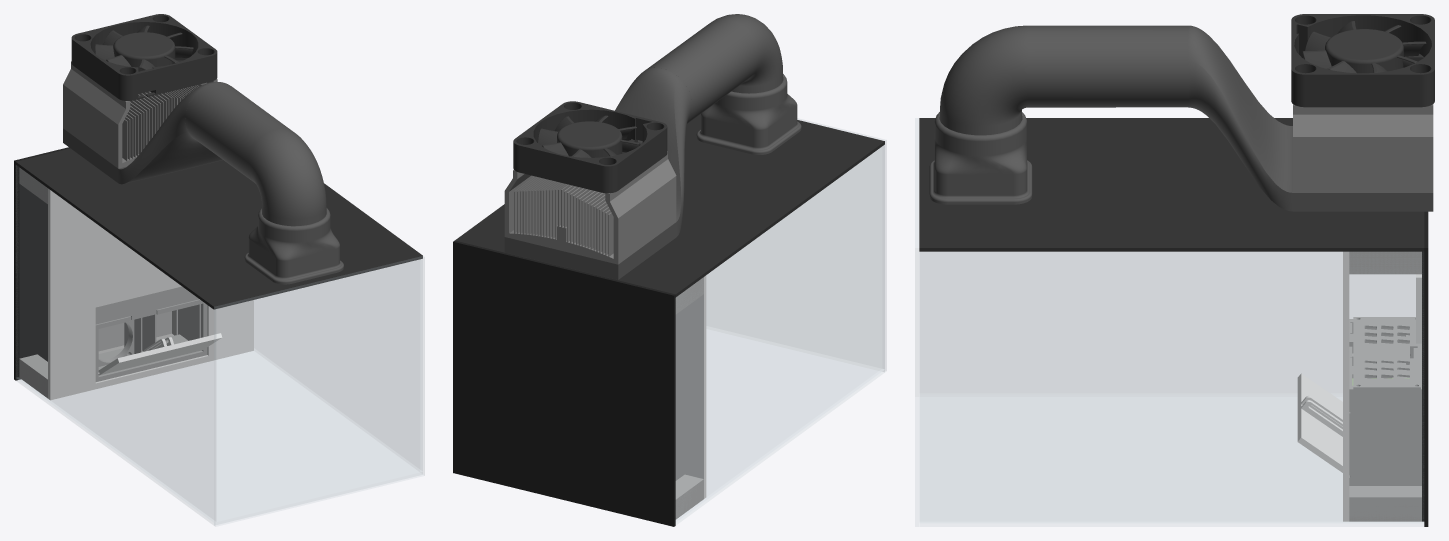
File: Teca_edited.glb
3 renders of one model, left to right at view 1: azimuth 30°, elevation 25°; view 2: azimuth 150°, elevation 25°; view 3: azimuth 270°, elevation 25°, orthographic. The views are drawn at different scales.
Visible parts, largest first — view 1: mesh406_mesh_2, mesh337_mesh_4, mesh371_mesh_10, mesh666_mesh_5, mesh666_mesh_2, mesh428_mesh_33, mesh645_mesh_3, mesh262_mesh_15, mesh645_mesh_2, mesh1091_mesh_73, mesh666_mesh_3, mesh168_mesh_25 (+22 smaller); view 2: mesh371_mesh_4, mesh406_mesh_2, mesh337_mesh_5, mesh666_mesh_5, mesh428_mesh_151, mesh645_mesh_1, mesh428_mesh_33, mesh655_mesh, mesh1091_mesh_69, mesh666_mesh_2, mesh583_mesh_13, mesh1091_mesh_89 (+16 smaller); view 3: mesh406_mesh_2, mesh666_mesh_5, mesh428_mesh_31, mesh168_mesh_28, mesh666_mesh_3, mesh645_mesh_1, mesh6_mesh_2, mesh666_mesh_4, mesh645_mesh, mesh428_mesh_30, mesh1091_mesh_67, mesh655_mesh_2 (+18 smaller).
Boxes of the visible parts, x1,y1,x2,y2 form: mesh406_mesh_2: [16, 148, 422, 306]; mesh337_mesh_4: [50, 190, 253, 400]; mesh371_mesh_10: [19, 184, 47, 361]; mesh666_mesh_5: [185, 82, 291, 164]; mesh666_mesh_2: [248, 129, 310, 219]; mesh428_mesh_33: [63, 84, 118, 168]; mesh645_mesh_3: [125, 133, 222, 183]; mesh262_mesh_15: [95, 286, 199, 324]; mesh645_mesh_2: [118, 91, 197, 184]; mesh1091_mesh_73: [133, 56, 211, 95]; mesh666_mesh_3: [276, 128, 326, 217]; mesh168_mesh_25: [95, 300, 207, 381]; mesh371_mesh_4: [453, 242, 673, 526]; mesh406_mesh_2: [455, 114, 884, 294]; mesh337_mesh_5: [675, 294, 703, 480]; mesh666_mesh_5: [644, 19, 758, 105]; mesh428_mesh_151: [504, 170, 618, 264]; mesh645_mesh_1: [615, 67, 681, 221]; mesh428_mesh_33: [618, 176, 676, 264]; mesh655_mesh: [504, 237, 618, 279]; mesh1091_mesh_69: [519, 145, 601, 187]; mesh666_mesh_2: [730, 14, 782, 86]; mesh583_mesh_13: [706, 94, 797, 130]; mesh1091_mesh_89: [513, 101, 667, 166]; mesh406_mesh_2: [919, 118, 1424, 247]; mesh666_mesh_5: [1028, 25, 1188, 83]; mesh428_mesh_31: [1293, 137, 1433, 192]; mesh168_mesh_28: [1349, 389, 1421, 485]; mesh666_mesh_3: [940, 29, 1027, 126]; mesh645_mesh_1: [1188, 25, 1292, 192]; mesh6_mesh_2: [1353, 317, 1420, 387]; mesh666_mesh_4: [1028, 84, 1188, 107]; mesh645_mesh: [1188, 61, 1292, 211]; mesh428_mesh_30: [1293, 114, 1433, 136]; mesh1091_mesh_67: [1305, 74, 1420, 100]; mesh655_mesh_2: [1293, 193, 1433, 211].
Bounding box in the file's own units: 0.15 × 0.2326 × 0.2534.
